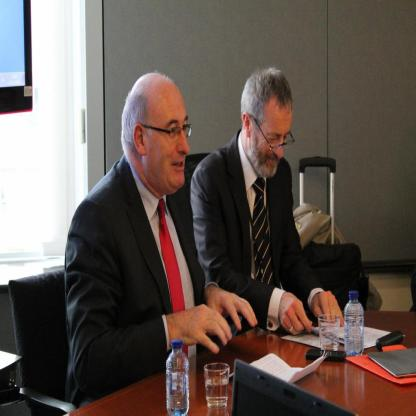board: (230, 356, 353, 414), (166, 338, 190, 416), (345, 290, 364, 356)
